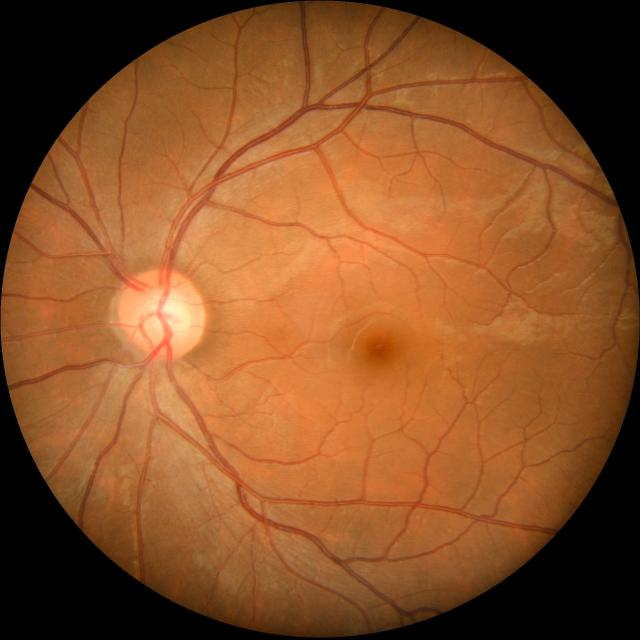OC: (143, 292, 189, 338)
OD: (116, 269, 205, 359)
